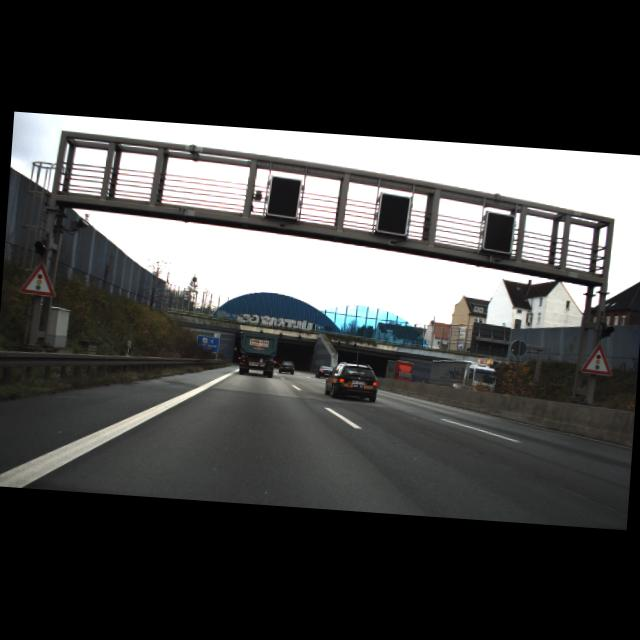danger: (19, 260, 57, 296), (580, 341, 614, 376)
